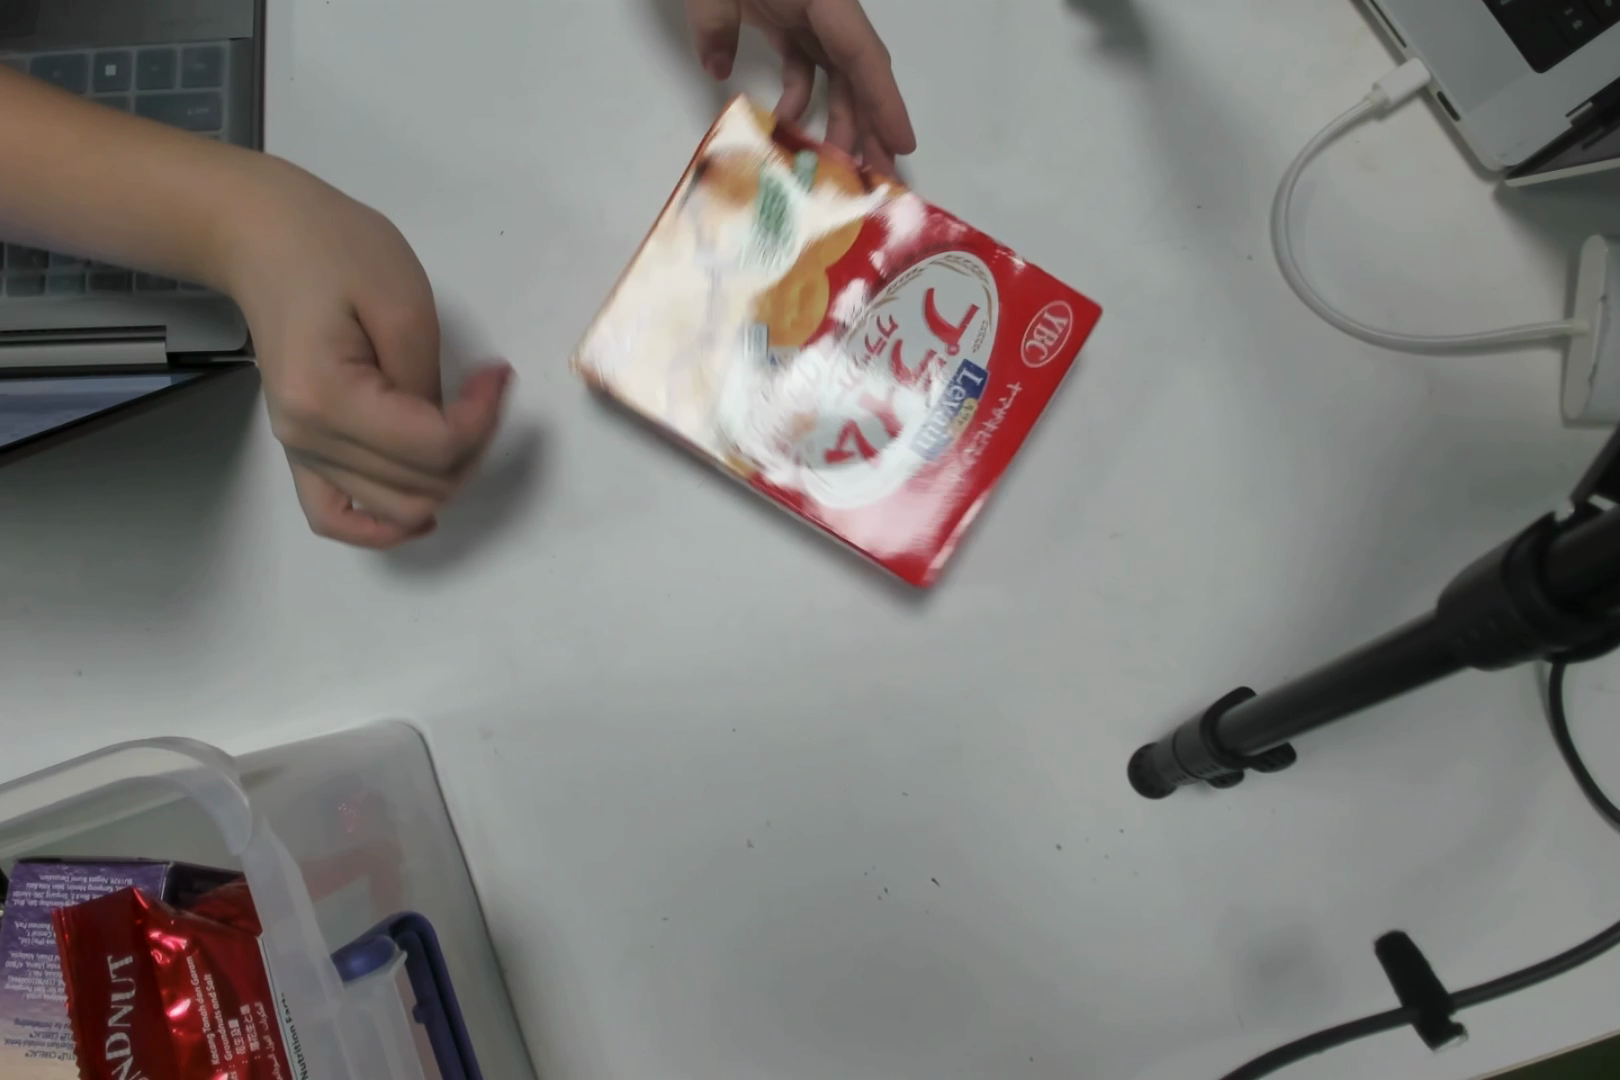c: (626, 162, 1090, 567)
